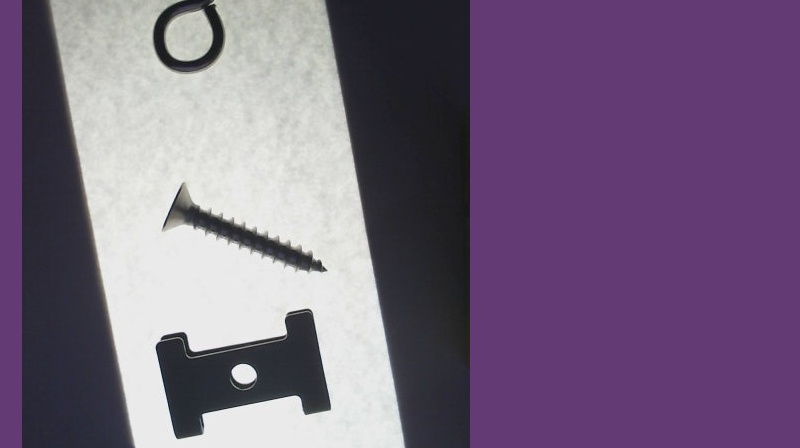O001: (140, 0, 250, 75)
O002: (152, 304, 332, 443)
S001: (159, 172, 333, 280)
